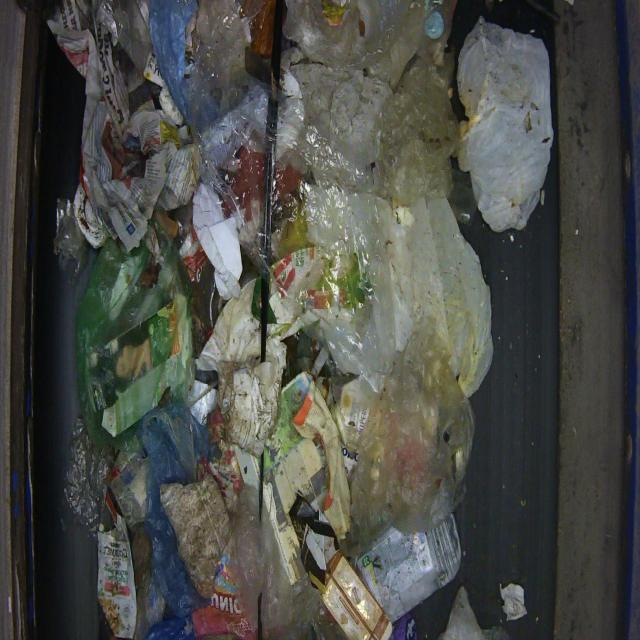E-waste: (42, 0, 553, 638)
